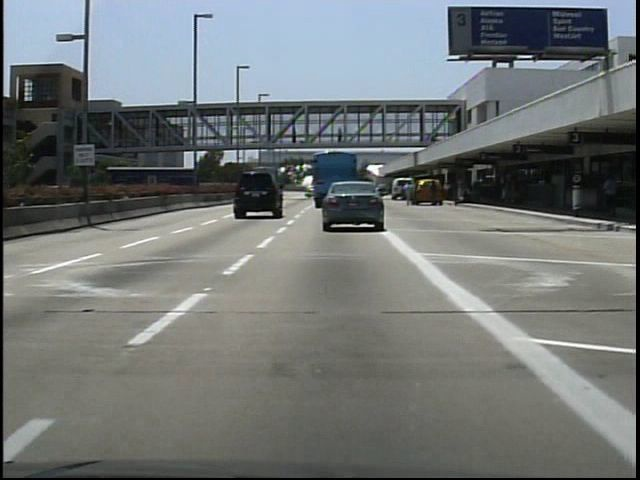person: (601, 170, 621, 218), (428, 178, 445, 211), (399, 179, 417, 209), (334, 126, 348, 152), (289, 123, 302, 145)
